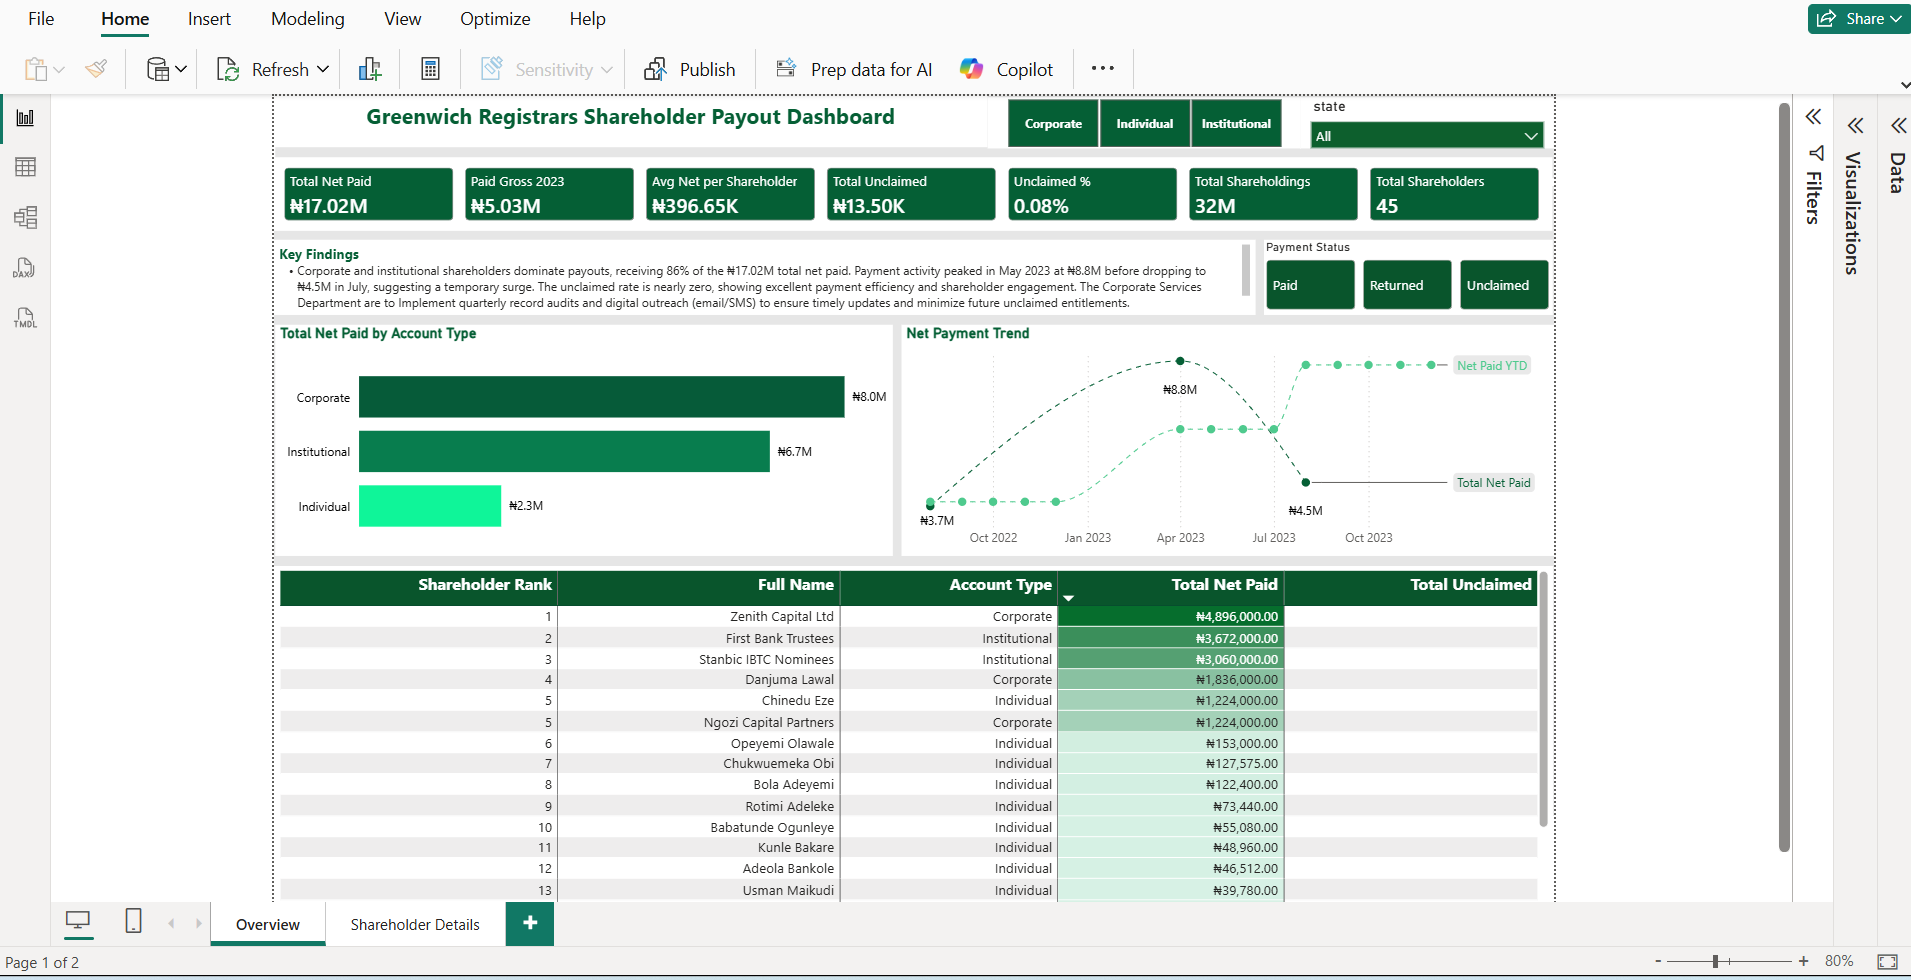

Layout of this report page (visuals, bound fields, positions):
{"tool":"powerbi","page":{"name":"Overview","canvas":[1280,860],"ordinal":0},"visuals":[{"type":"shape","box":[1.9,0,1397.4,82.2],"z":0},{"type":"shape","box":[0,90,1398.8,630],"z":1000},{"type":"cardVisual","fields":{"Data":["DAX.Total Net Paid","DAX.Paid Gross 2023","DAX.Average Net per Shareholder","DAX.Total Unclaimed","DAX.Unclaimed %","DAX.Total Shareholdings","DAX.Total Shareholders"]},"box":[0,61.2,1278.8,73.8],"z":2000},{"type":"textbox","box":[0,143.8,981.2,75],"z":3000},{"type":"slicer","fields":{"Values":["greenwich_db shareholders.account_type"]},"box":[713.8,1.2,312.5,51.2],"z":4000},{"type":"textbox","box":[0,0,713.8,51.2],"z":5000},{"type":"clusteredBarChart","title":"Total Net Paid by Account Type","fields":{"Category":["greenwich_db shareholders.account_type"],"Y":["DAX.Total Net Paid"]},"box":[1.2,228.8,617.5,231.2],"z":6000},{"type":"lineChart","title":"Net Payment Trend","fields":{"Y":["DAX.Total Net Paid"],"Y2":["DAX.Net Paid YTD"],"Category":["Date.Date.Variation.Date Hierarchy.Year","Date.Date.Variation.Date Hierarchy.Month"]},"box":[627.5,228.8,652.5,231.2],"z":7000},{"type":"tableEx","fields":{"Values":["DAX.Shareholder Rank","greenwich_db shareholders.full_name","greenwich_db shareholders.account_type","DAX.Total Net Paid","DAX.Total Unclaimed"]},"box":[0,470,1279,520],"z":8000},{"type":"advancedSlicerVisual","title":"Payment Status","fields":{"Values":["greenwich_db dividend_payments.payment_status"]},"box":[990,143.8,288.8,75],"z":9000},{"type":"slicer","fields":{"Values":["greenwich_db shareholders.state"]},"box":[1026.2,1.2,253.8,51.2],"z":10000}]}

Visuals, with their boxes on the page's 1280x860 design canvas (x1, y1, x2, y2). These are canvas units, not pixel positions in the 1911x980 screenshot, which may show the page scaled, cropped or inside an application window:
shape: bbox(2, 0, 1399, 82)
shape: bbox(0, 90, 1399, 720)
cardVisual - DAX.Total Net Paid x DAX.Paid Gross 2023: bbox(0, 61, 1279, 135)
textbox: bbox(0, 144, 981, 219)
slicer - greenwich_db shareholders.account_type: bbox(714, 1, 1026, 52)
textbox: bbox(0, 0, 714, 51)
"Total Net Paid by Account Type" clusteredBarChart: bbox(1, 229, 619, 460)
"Net Payment Trend" lineChart: bbox(628, 229, 1280, 460)
tableEx - DAX.Shareholder Rank x greenwich_db shareholders.full_name: bbox(0, 470, 1279, 990)
"Payment Status" advancedSlicerVisual: bbox(990, 144, 1279, 219)
slicer - greenwich_db shareholders.state: bbox(1026, 1, 1280, 52)
